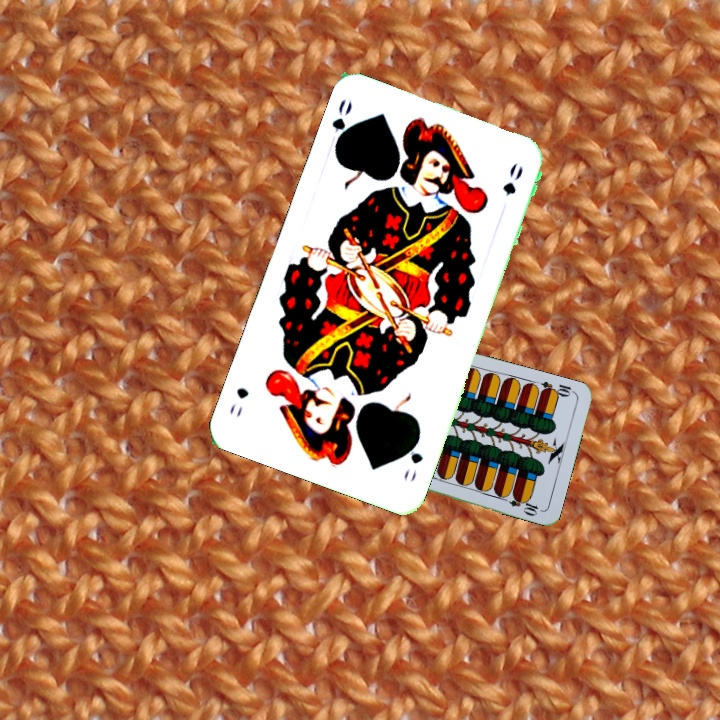E10: (537, 377, 577, 400)
GO: (327, 95, 356, 154), (399, 431, 426, 485)
